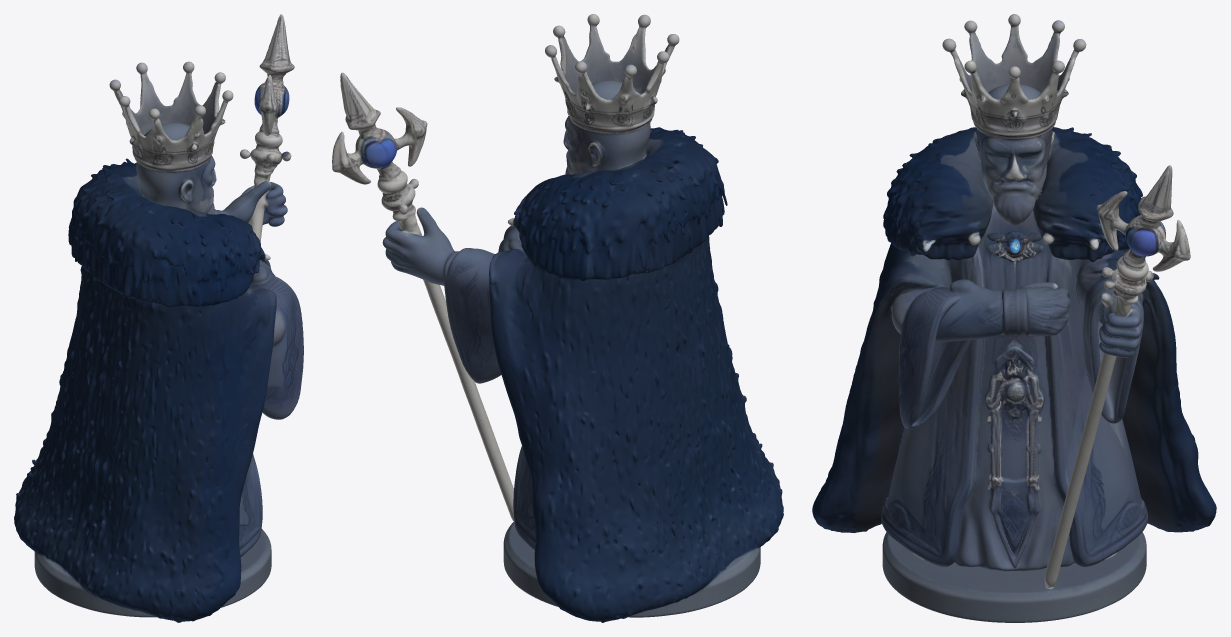
The picture shows the model from 3 angles, left to right: view 1: azimuth 30°, elevation 25°; view 2: azimuth 150°, elevation 25°; view 3: azimuth 270°, elevation 25°; orthographic projection. The views are drawn at different scales.
Parts seen in each view (by area): view 1: tripo_node_b46f04f3-21b2-4b36-8926-b333f5a13b9b; view 2: tripo_node_b46f04f3-21b2-4b36-8926-b333f5a13b9b; view 3: tripo_node_b46f04f3-21b2-4b36-8926-b333f5a13b9b.
Part boxes in pixels (bbox=[...]): tripo_node_b46f04f3-21b2-4b36-8926-b333f5a13b9b: bbox=[14, 14, 303, 622]; tripo_node_b46f04f3-21b2-4b36-8926-b333f5a13b9b: bbox=[332, 14, 783, 622]; tripo_node_b46f04f3-21b2-4b36-8926-b333f5a13b9b: bbox=[812, 14, 1216, 622].
Size of the model in its own units: 0.6633 by 1 by 0.6796.
Materials: 1 (1 with a texture image).
